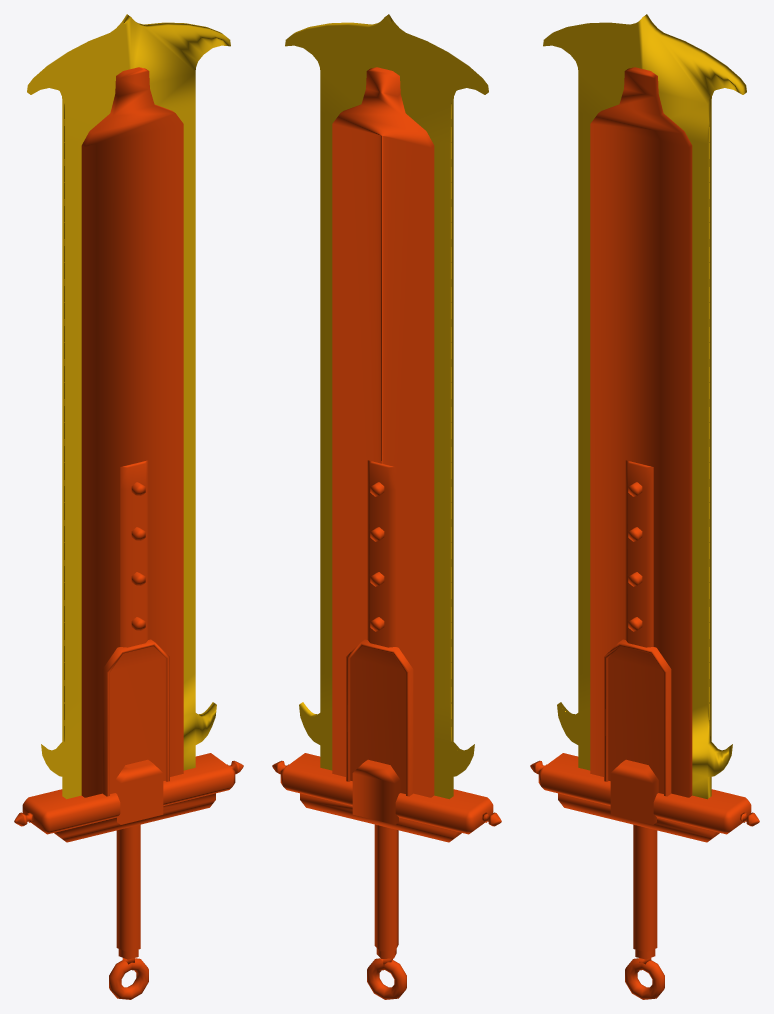
File: brute_sword.fbx
3 views of the same model, side by side, from view 1: azimuth 30°, elevation 25°; view 2: azimuth 150°, elevation 25°; view 3: azimuth 330°, elevation 25° (orthographic).
Visible parts, largest first — view 1: brute_sword; view 2: brute_sword; view 3: brute_sword.
Boxes of the visible parts, <box> form: brute_sword: <box>14,14,243,999</box>; brute_sword: <box>272,14,501,999</box>; brute_sword: <box>530,14,759,999</box>.
Bounding box in the file's own units: 1.96 × 8.03 × 0.3884.
